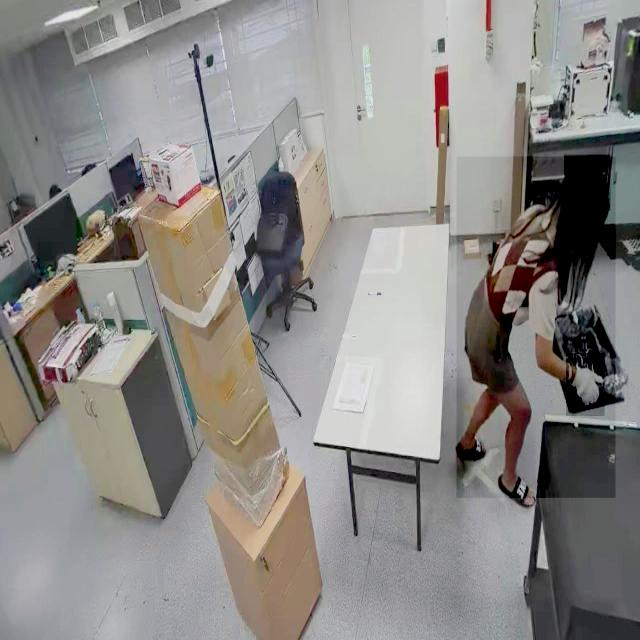hand_glove: (566, 353, 604, 417)
head_nohelmet: (564, 154, 610, 212)
person: (456, 156, 616, 498)
